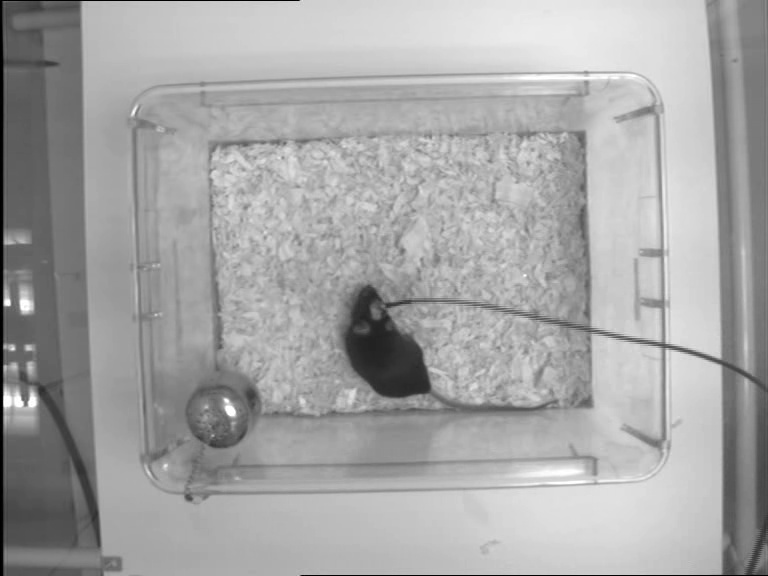mice: (342, 287, 565, 409)
